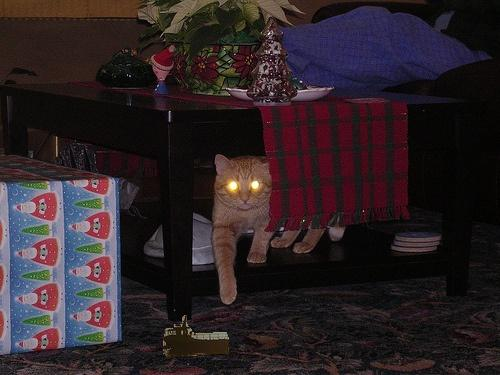tampered: (164, 315, 229, 357)
